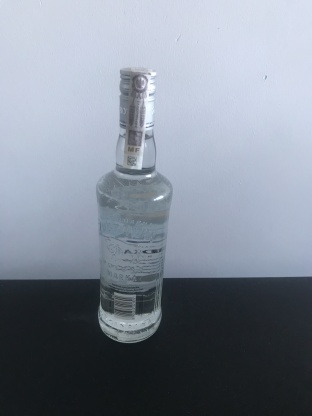nakretka: (116, 63, 158, 133)
